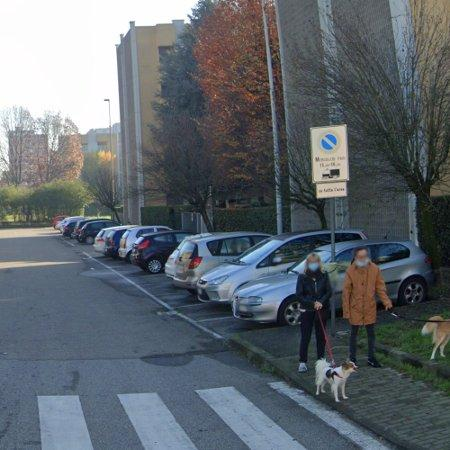crosswalks: (0, 376, 405, 450)
